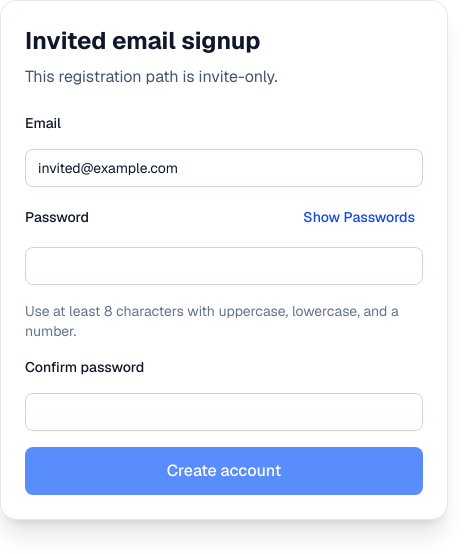
Scenario: InviteEmailSignupForm › shows success state after invited signup request
In the password field labelled "Password": (224,266) [25,247,423,285], type "Secret123"
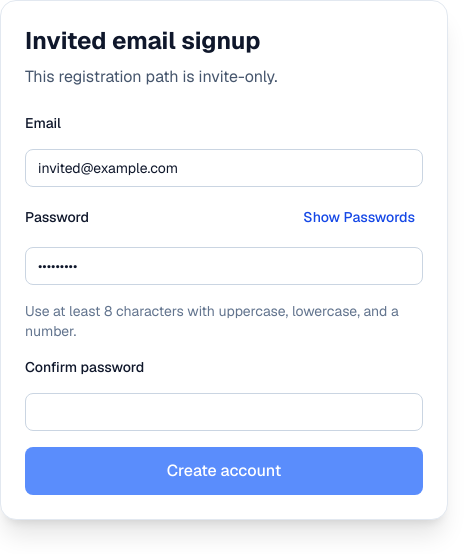
In the password field labelled "Confirm password": (224,412) [25,393,423,431], type "Secret123"
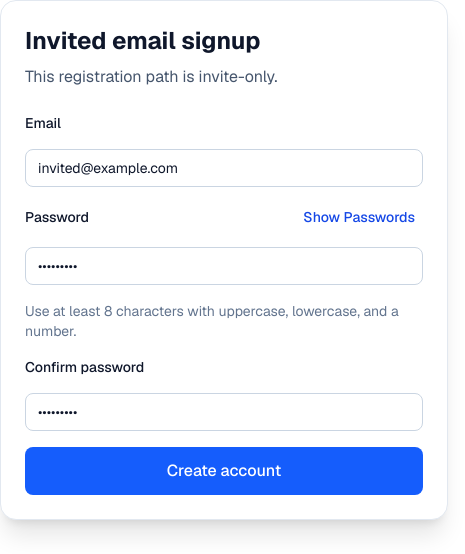
Click the button "Create account": (224,471) [25,447,423,495]
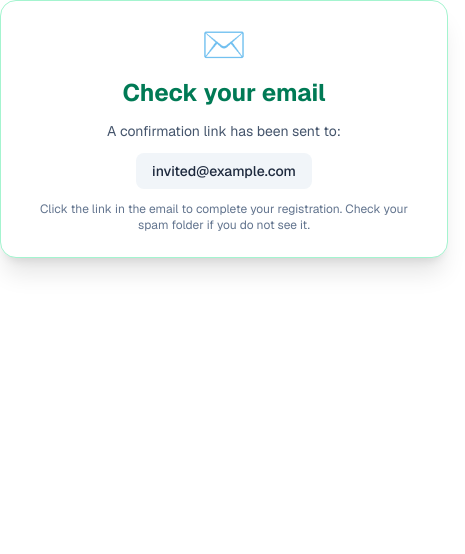
Check: the heading "Check your email" is shown, box [122,77,326,109]
Check: the text "invited@example.com" is shown, box [136,153,312,189]
